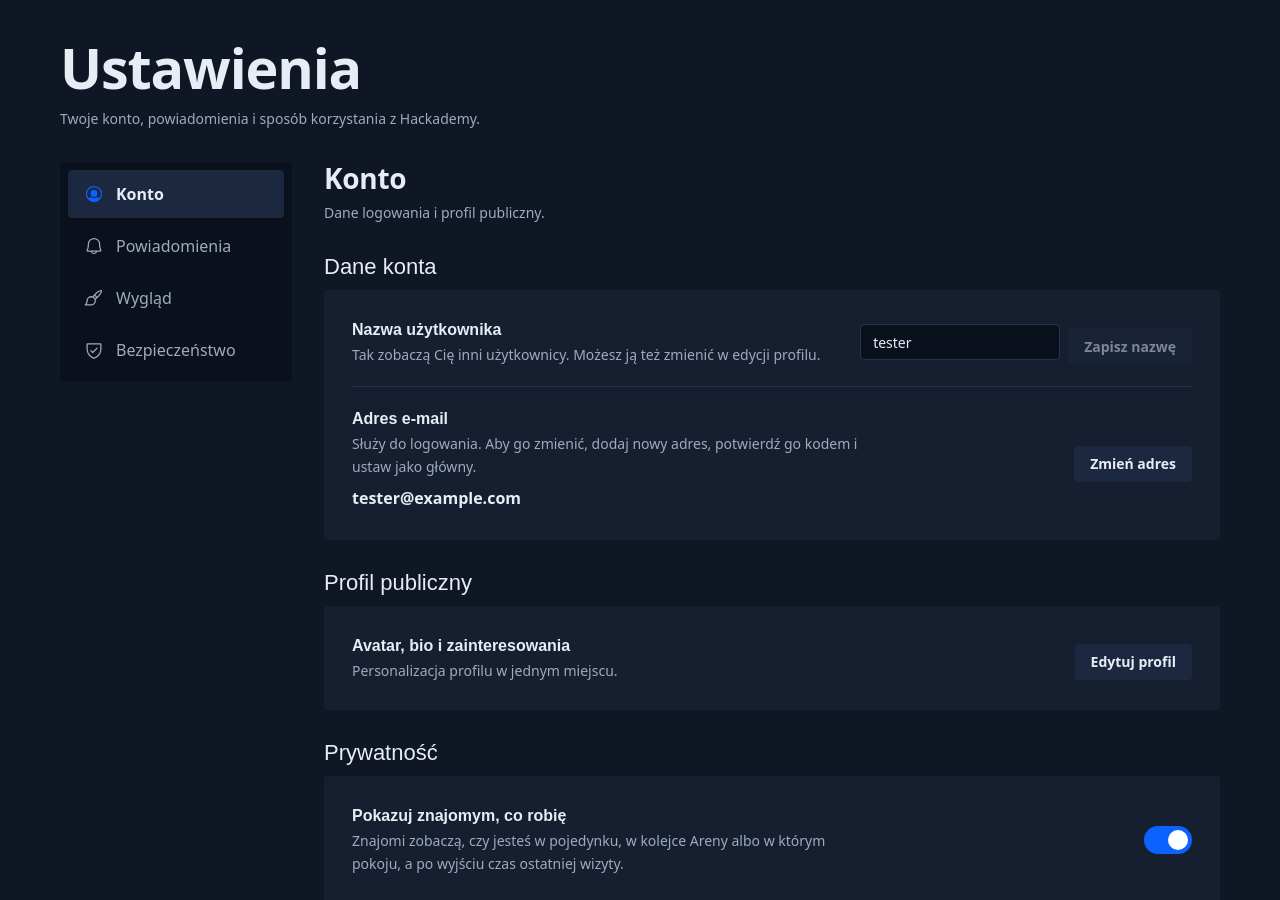
Test: settings › lets the player hide their activity from friends
Click the switch named "Pokazuj znajomym, co robię". click: (1168, 840)
box: x1=1144 y1=826 x2=1192 y2=854
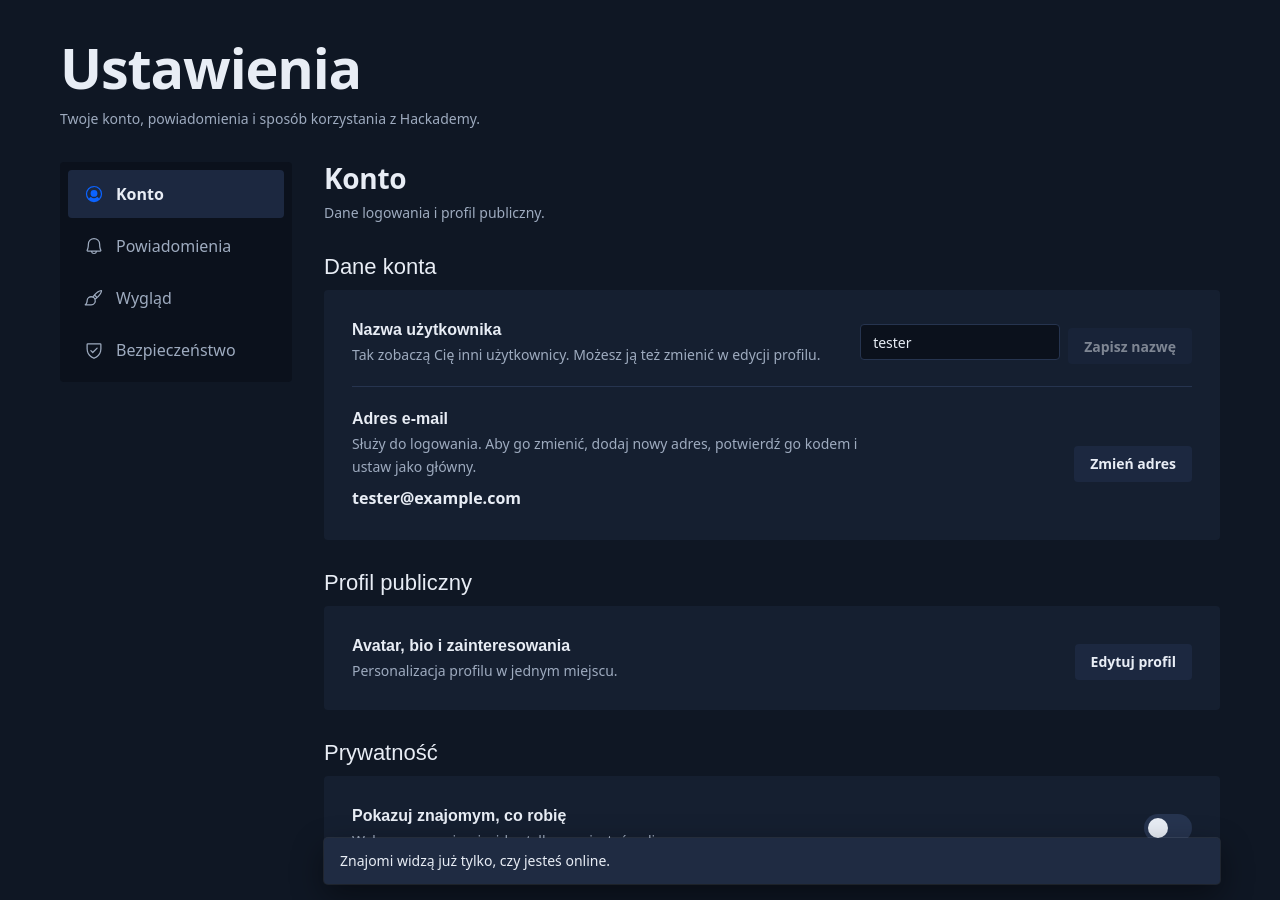
Check: the text "Znajomi widzą już tylko, czy jesteś online." is shown, box x1=324 y1=838 x2=1220 y2=884
